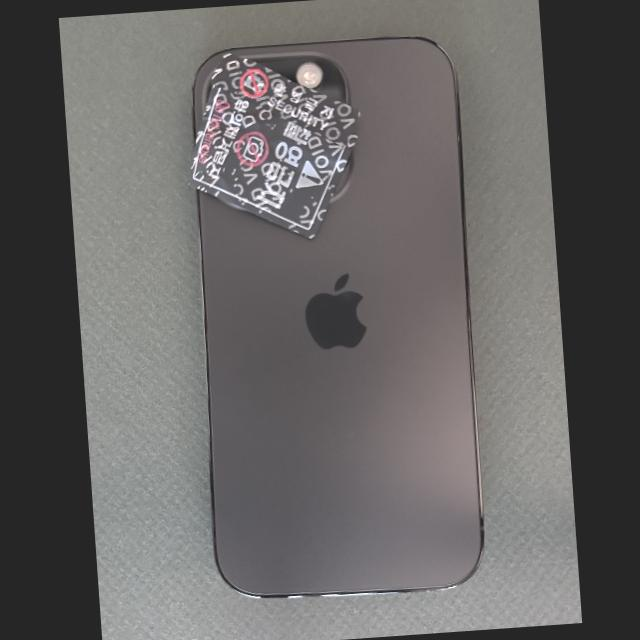phone: (194, 38, 483, 596)
sticker: (186, 85, 350, 239), (210, 52, 361, 148)
